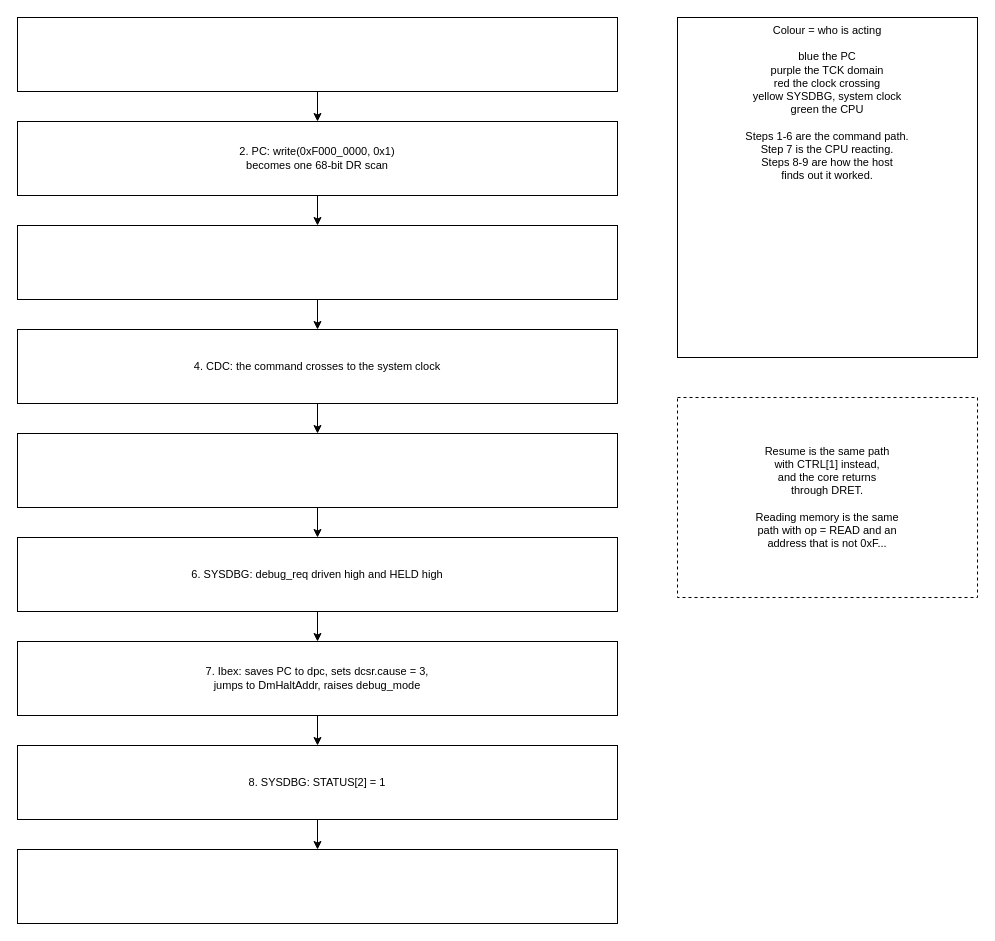
The diagram is 995 pixels wide and 941 high, and some of its shapes have lost their labels. The shapes that lost their labels are listed below. From the top down, each one's centre as x and y in pixels, then its label:
At pixel 317 54: "1. PC: halt()".
At pixel 317 262: "3. JTAG: op = WRITE, addr = 0xF000_0000, data = 1 latched at Update-DR".
At pixel 317 470: "5. FSM: DECODE sees addr[31:28] = F, goes to LOCAL, writes CTRL[0] = 1".
At pixel 317 886: "9. PC: read(0xF000_0004), two scans, sees bit 2 set the CPU is halted".
